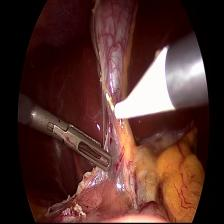Grasper: (49, 117, 114, 178)
Hook: (104, 44, 180, 124)
